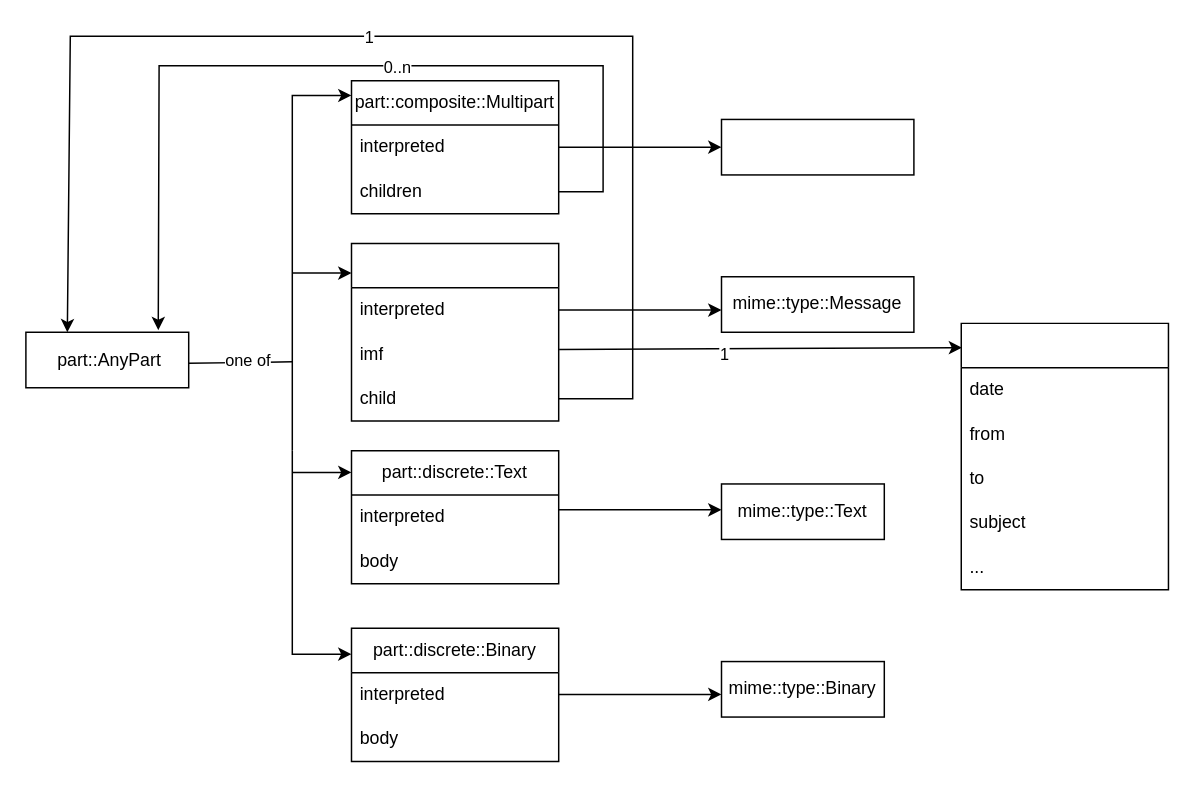
The diagram is 1194 pixels wide and 787 high, and some of its shapes have lost their labels. Each missing label, with the box of its shape:
imf::IMF: (960, 322, 1168, 590)
mime::type::Multipart: (720, 118, 914, 175)
part::composite::Message: (350, 242, 559, 421)
